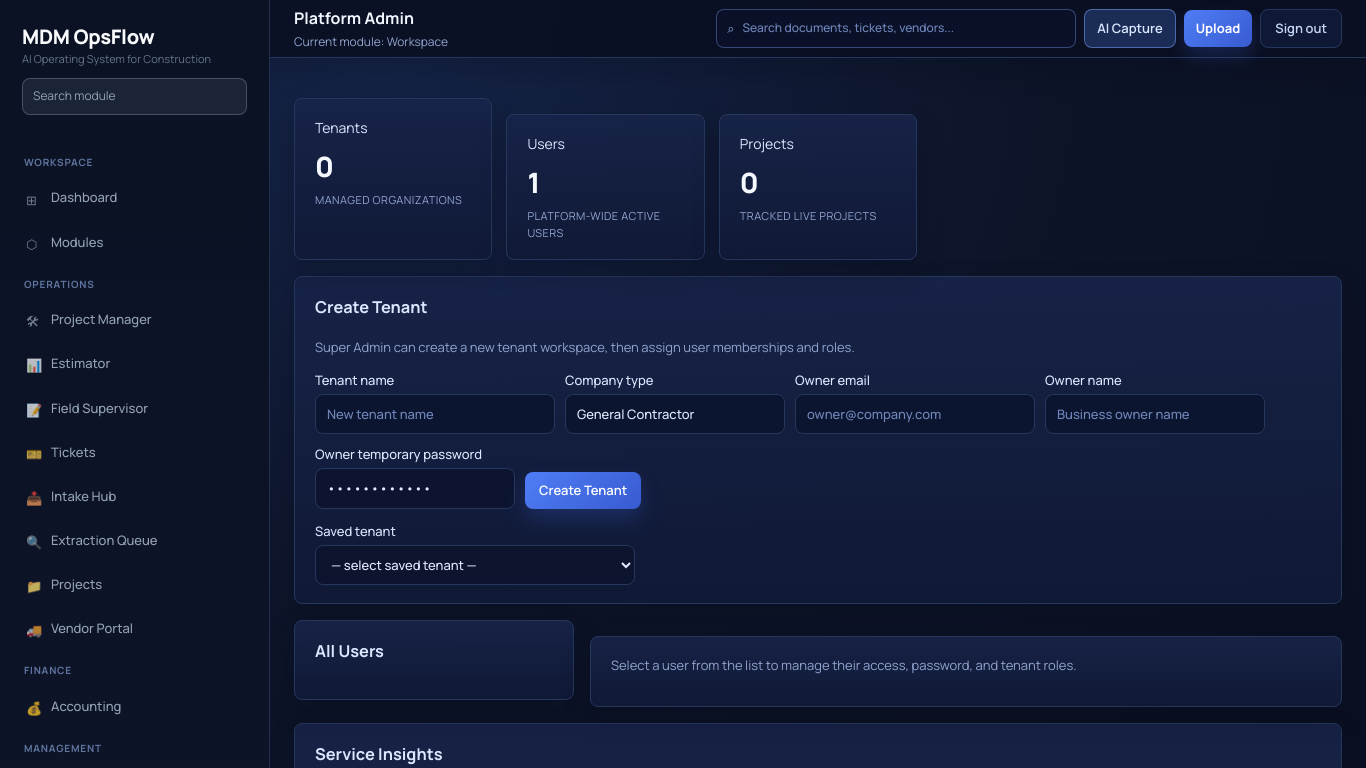
Scenario: Platform admin tenant creation › creates and saves a tenant with owner access
Type "North Ridge Civil" into the field labelled "Tenant name" at {"x": 435, "y": 414}, box [315,394,555,434]
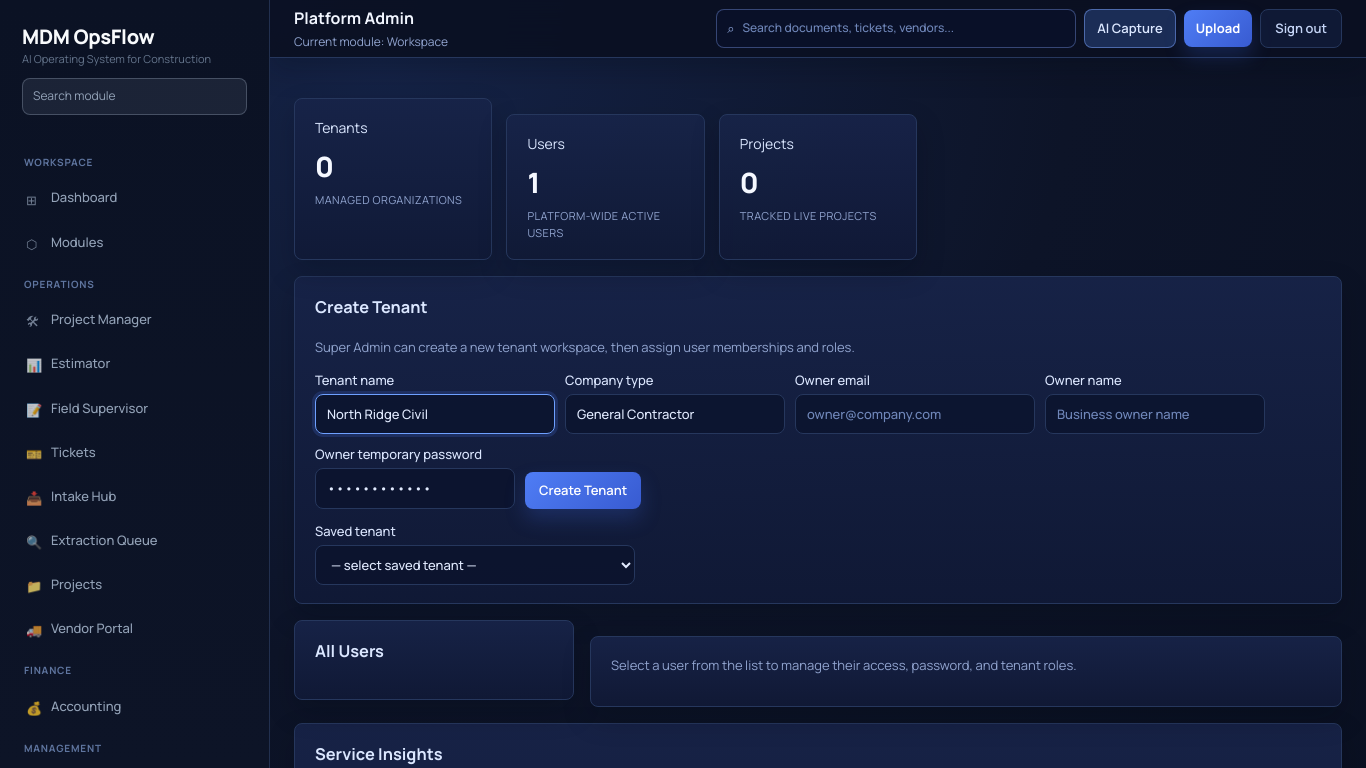
Type "Heavy Civil" into the field labelled "Company type" at {"x": 675, "y": 414}, box [565,394,785,434]
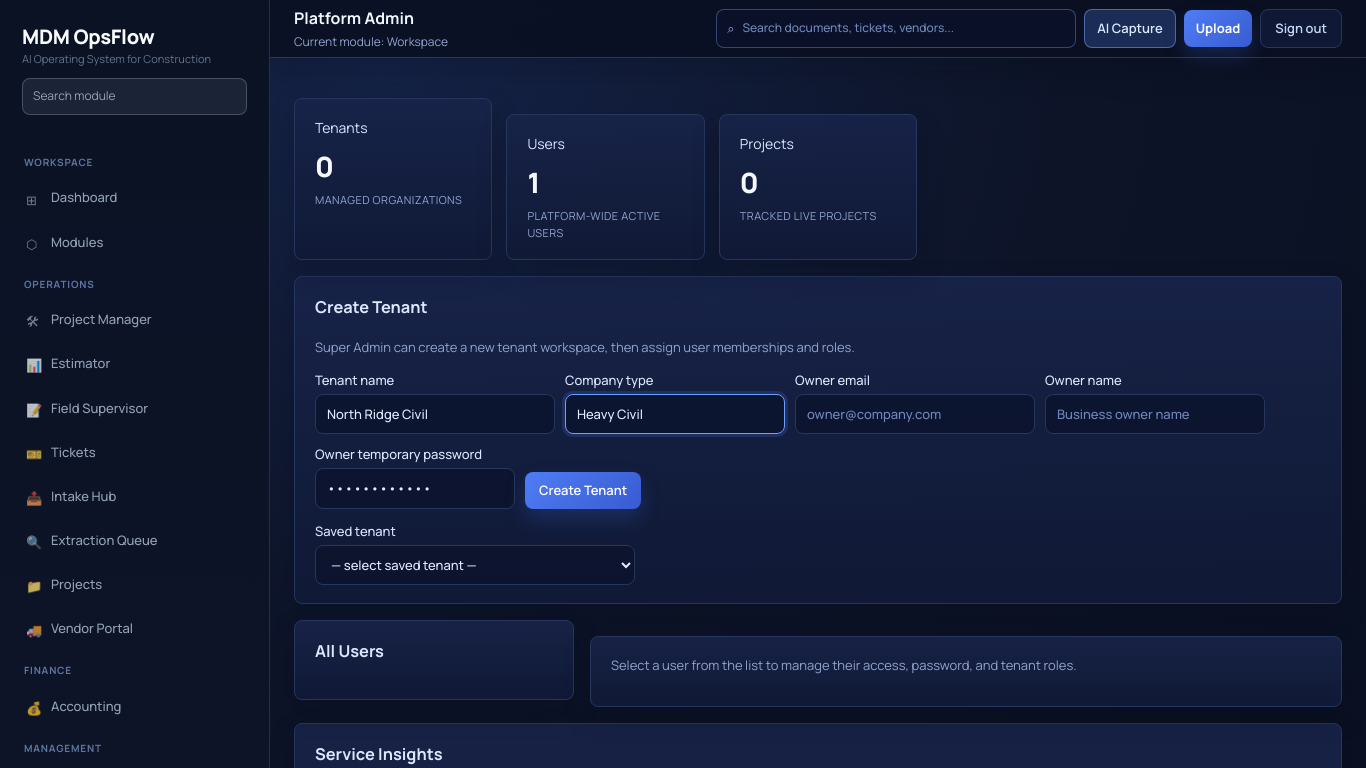
Type "owner@northridge.com" into the field labelled "Owner email" at {"x": 915, "y": 414}, box [795,394,1035,434]
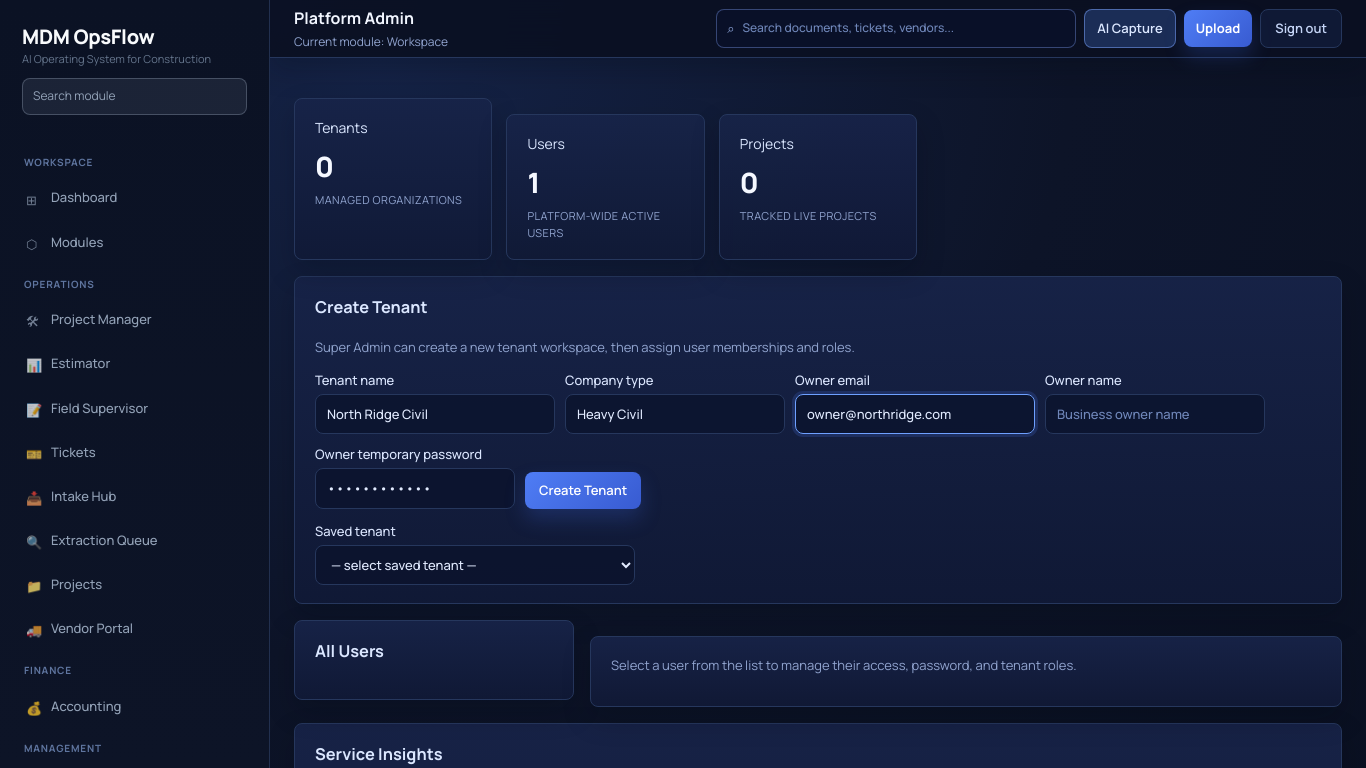
Type "North Ridge Owner" into the field labelled "Owner name" at {"x": 1155, "y": 414}, box [1045,394,1265,434]
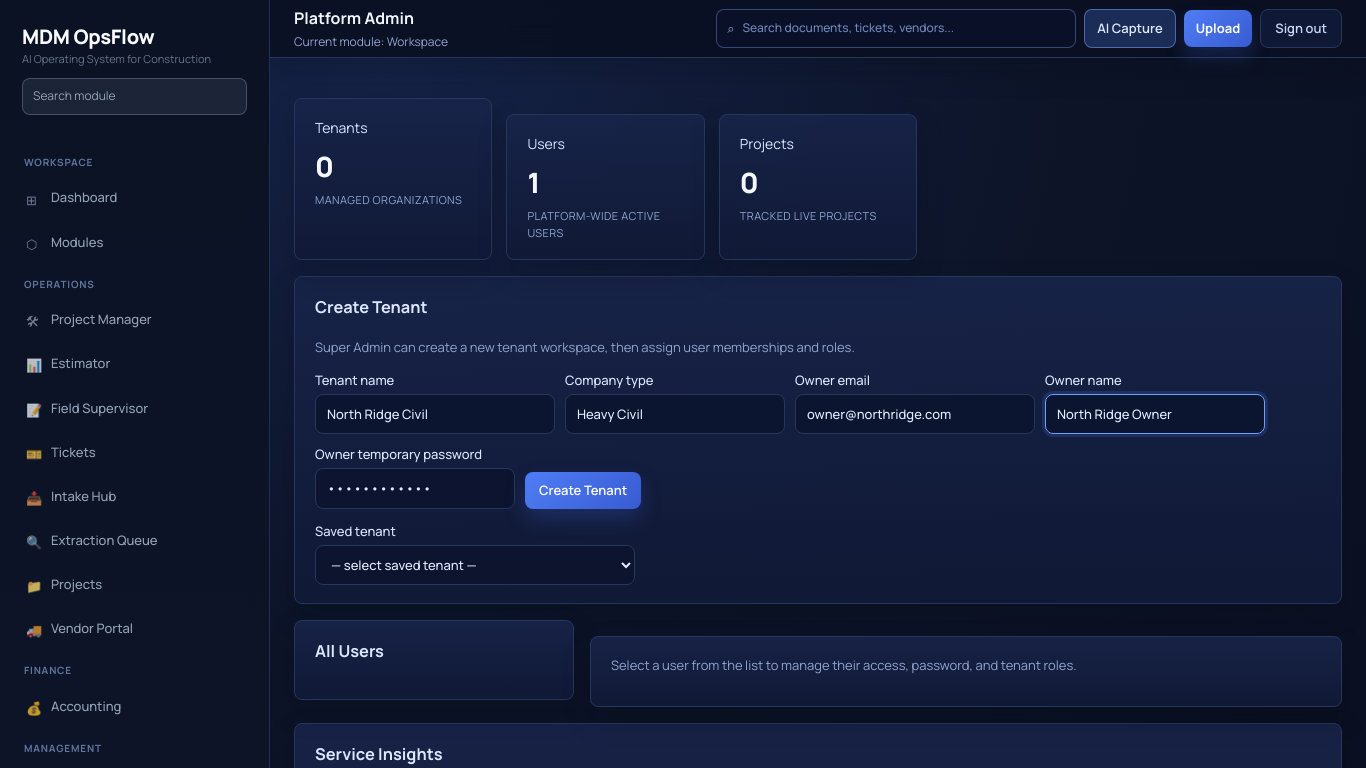
Type "OwnerPass123!" into the password field labelled "Owner temporary password" at {"x": 415, "y": 489}, box [315,468,515,509]
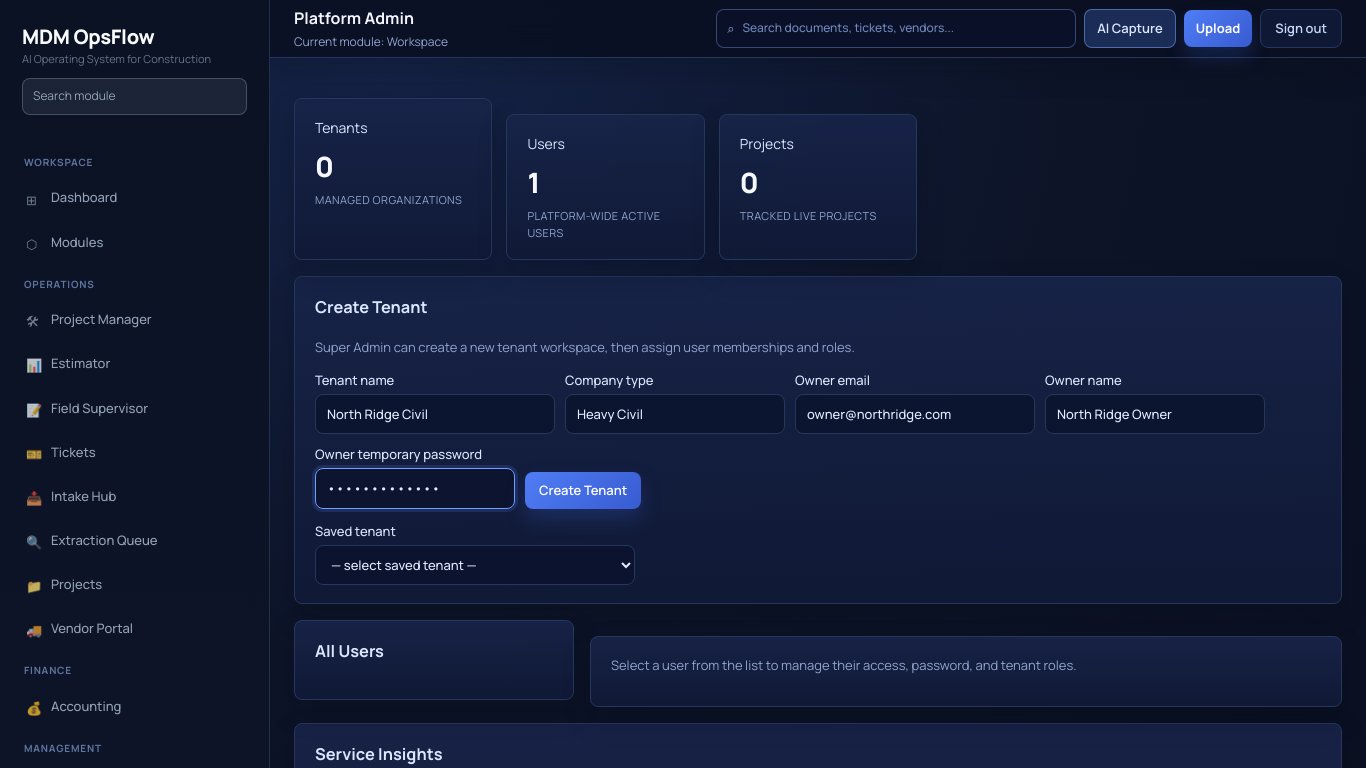
Click the button "Create Tenant" at {"x": 583, "y": 491}, box [525,472,641,509]
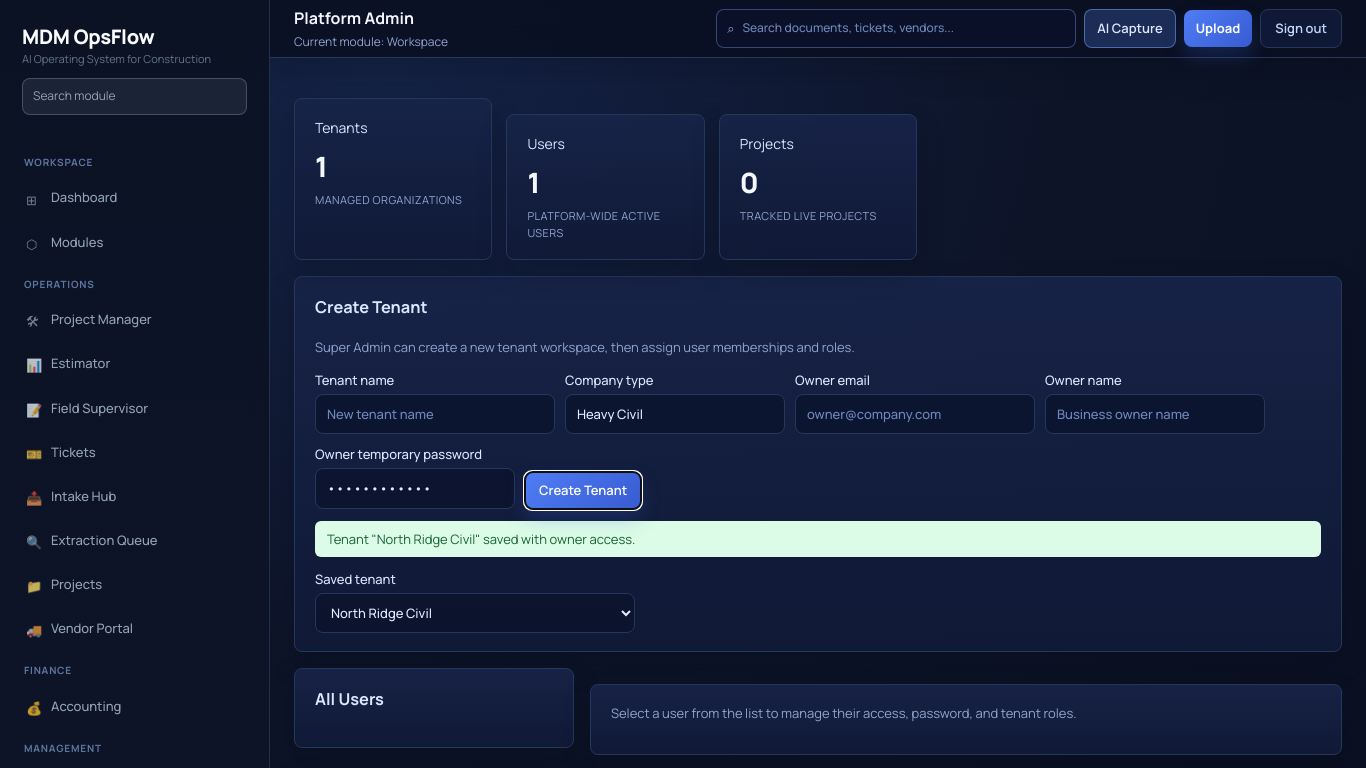
Now the text "Tenant \"North Ridge Civil\" saved with owner access." is shown, box [315,521,1321,557]
Now the dropdown labelled "Saved tenant" shows "North Ridge Civil", box [315,593,635,633]
